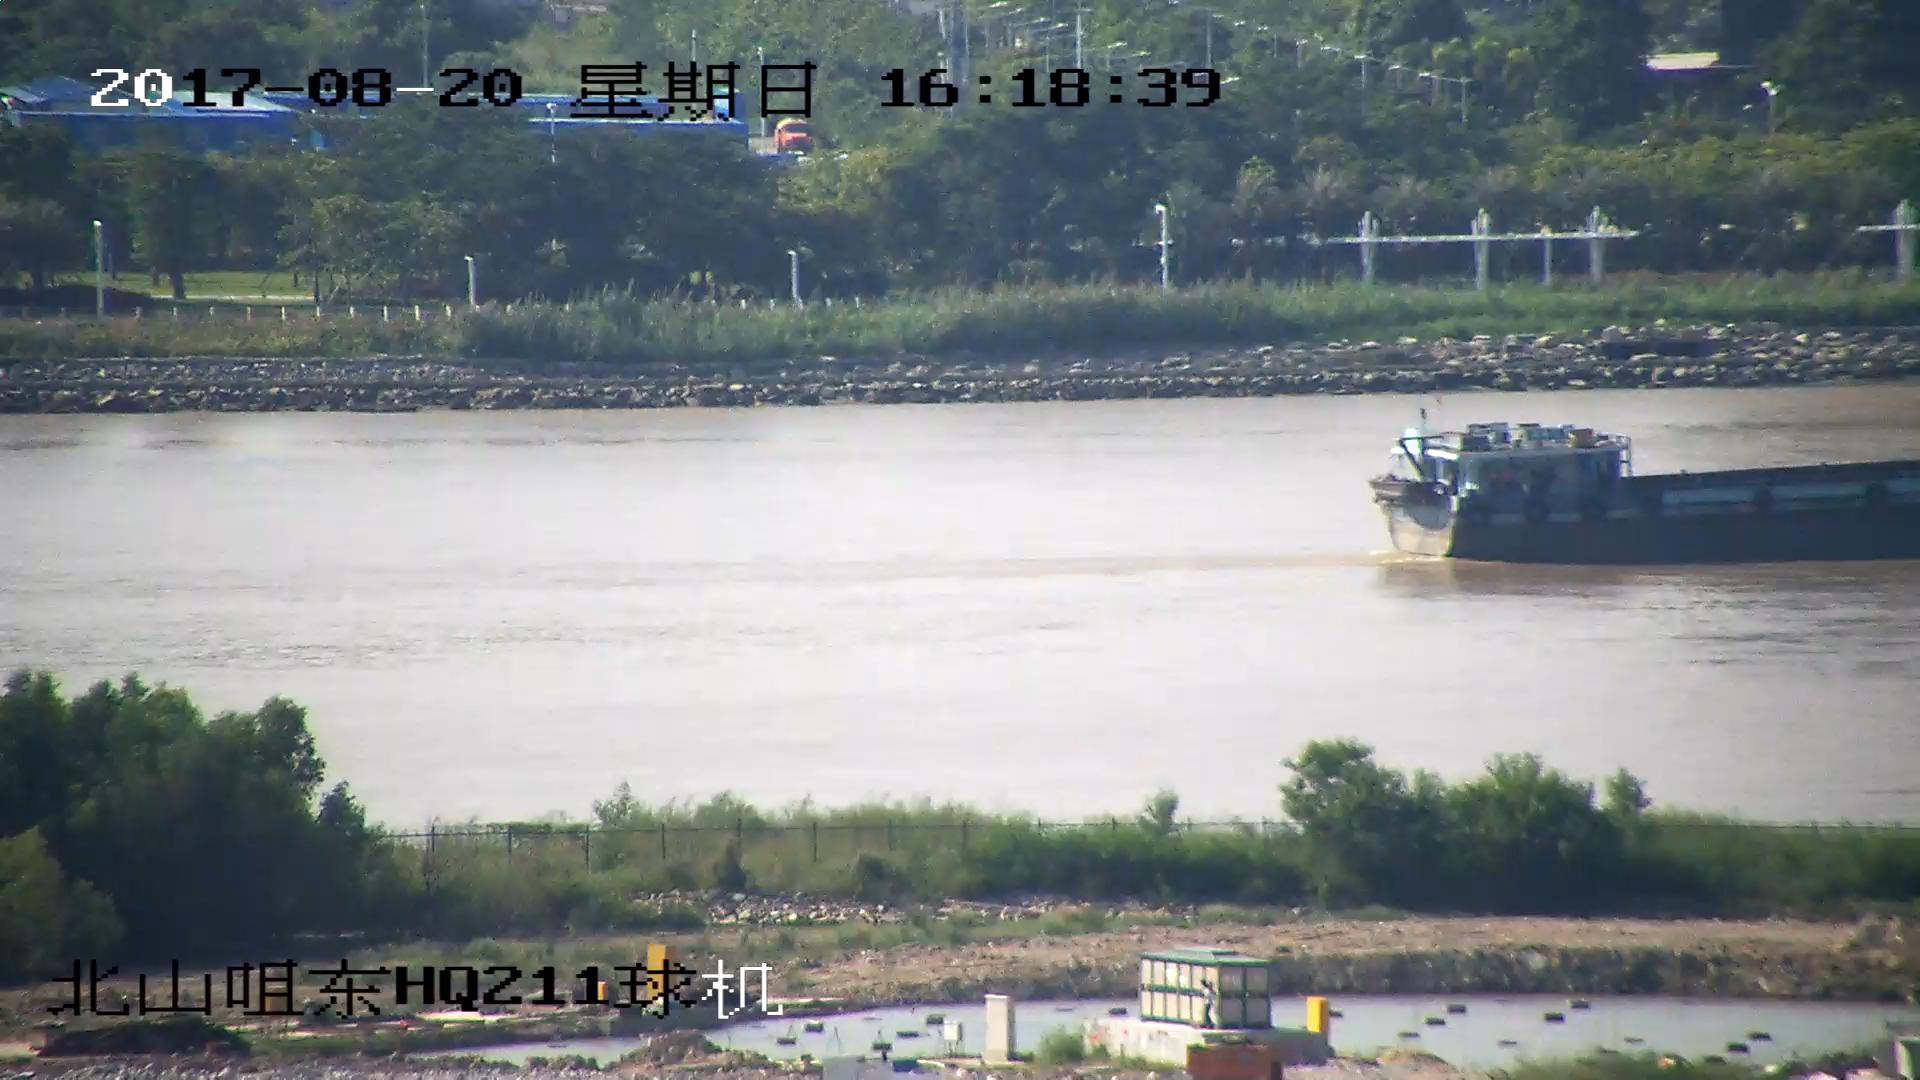general cargo ship: (1387, 420, 1920, 557)
